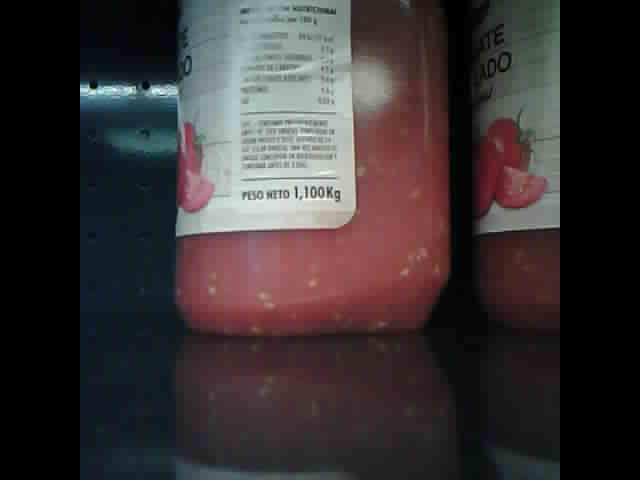tomate: (175, 1, 451, 334), (472, 5, 560, 333)
